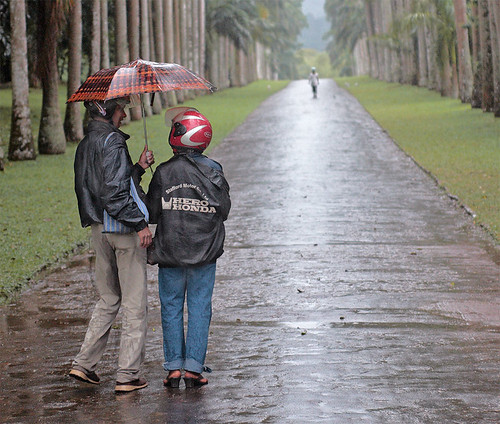helmet: (164, 105, 217, 152)
